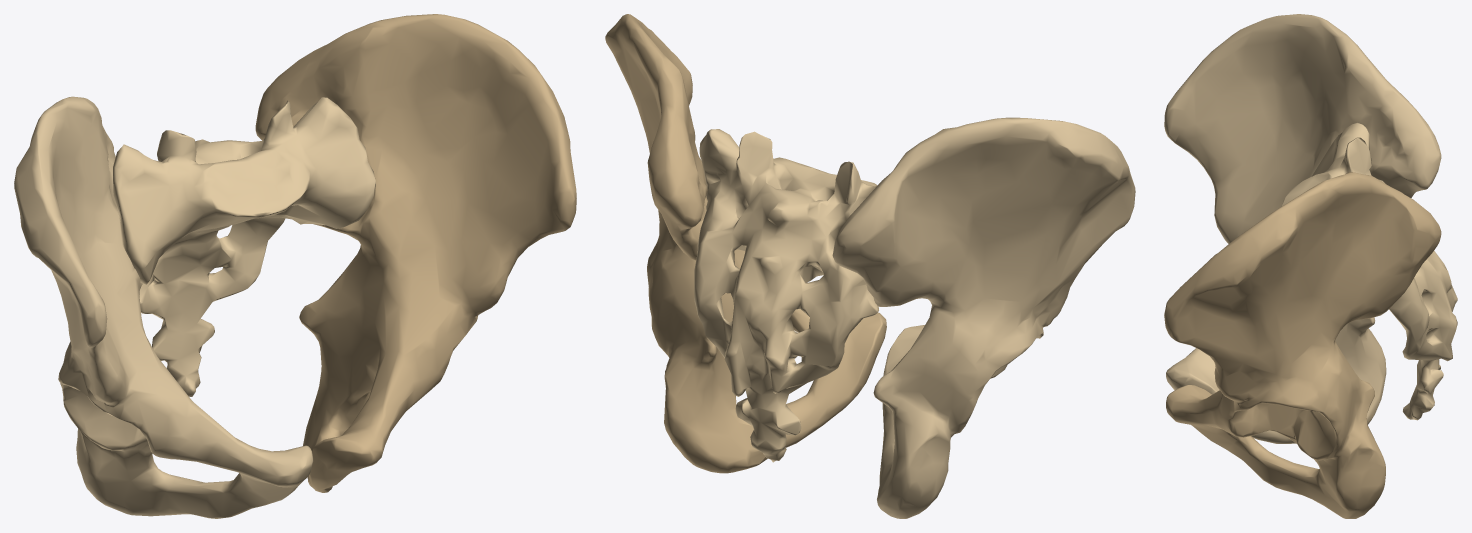
Rendered from pelvis.glb.
3 renders of one model, left to right at view 1: azimuth 30°, elevation 25°; view 2: azimuth 150°, elevation 25°; view 3: azimuth 270°, elevation 25°, orthographic. The views are drawn at different scales.
Parts seen in each view (by area): view 1: left-hip-bone, right-hip-bone, sacrum; view 2: right-hip-bone, sacrum, left-hip-bone; view 3: left-hip-bone, right-hip-bone, sacrum.
Part boxes in pixels (left/top/right/bottom): left-hip-bone: left=255, top=14, right=576, bottom=492; right-hip-bone: left=14, top=96, right=313, bottom=518; sacrum: left=113, top=97, right=375, bottom=396; right-hip-bone: left=832, top=117, right=1135, bottom=518; sacrum: left=694, top=129, right=878, bottom=462; left-hip-bone: left=605, top=14, right=886, bottom=473; left-hip-bone: left=1164, top=171, right=1441, bottom=518; right-hip-bone: left=1164, top=14, right=1441, bottom=443; sacrum: left=1282, top=122, right=1457, bottom=420.
Size of the model in its own units: 0.6578 by 0.5208 by 0.3665.
